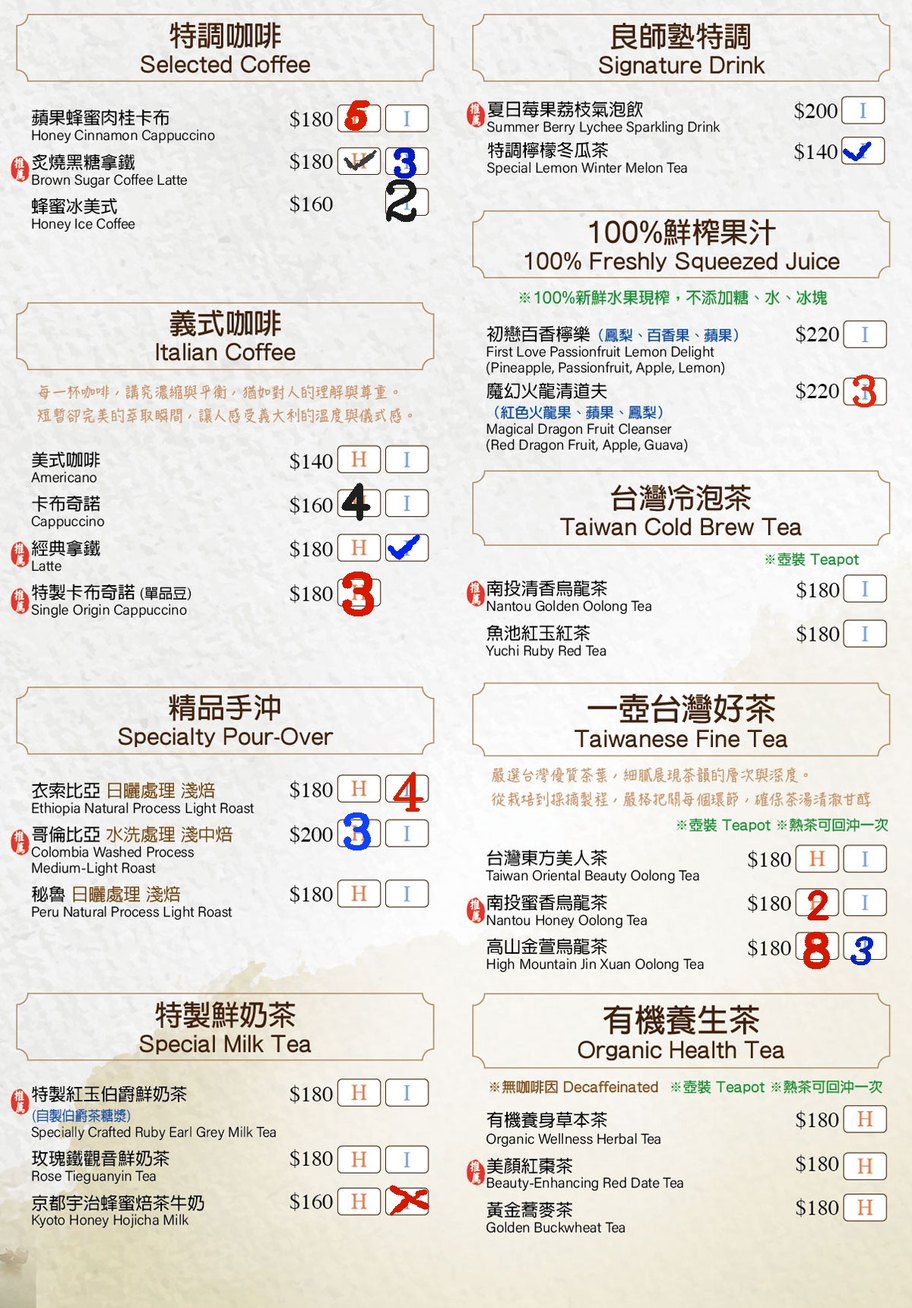marked_number_2: (387, 190, 426, 214), (799, 892, 838, 915)
marked_number_3: (389, 149, 428, 173), (844, 934, 883, 958), (339, 579, 378, 603), (845, 378, 884, 402), (339, 822, 378, 845)
marked_number_4: (339, 489, 378, 513), (387, 775, 426, 799)
marked_number_5: (339, 106, 378, 129)
marked_number_8: (798, 933, 837, 956)
marked_tick: (842, 138, 881, 162), (342, 149, 381, 173), (388, 535, 426, 559)
marked_x: (387, 1189, 426, 1212)
